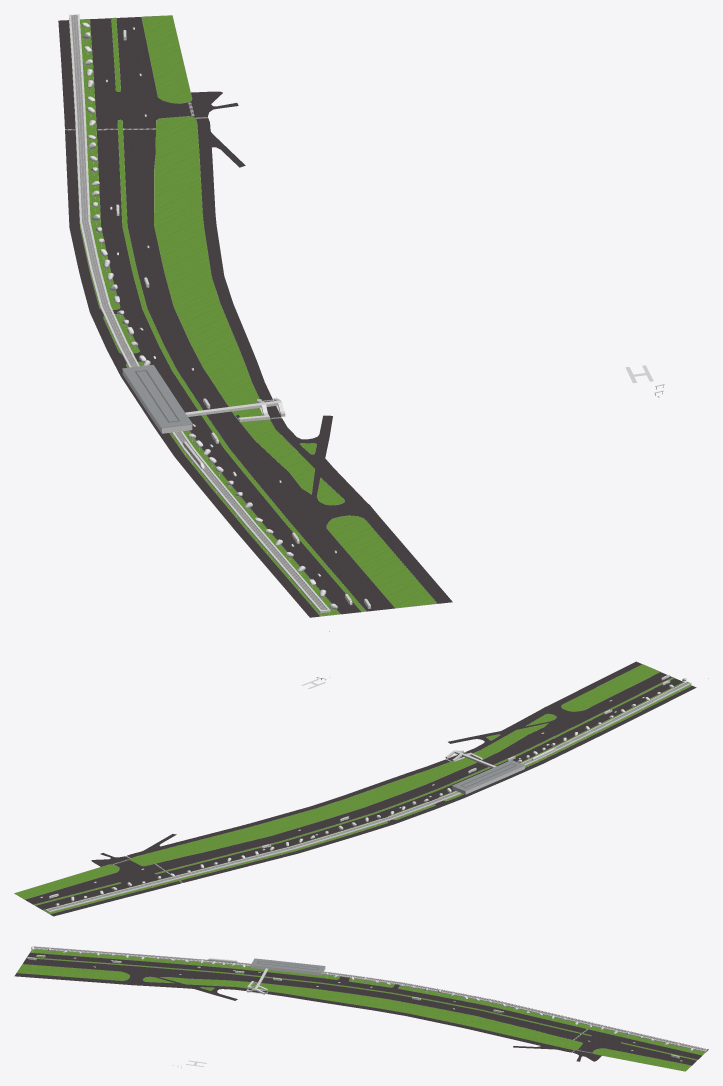
Rendered from giaothonglienvungg.glb.
3 views of the same model, one above another, from view 1: azimuth 30°, elevation 25°; view 2: azimuth 150°, elevation 25°; view 3: azimuth 270°, elevation 25° (orthographic). The views are drawn at different scales.
Parts seen in each view (by area): view 1: _(Loose Entity), _G-Object (Loose Mesh), G-Object.003, G-Object.001; view 2: _(Loose Entity), _G-Object (Loose Mesh), G-Object.003, G-Object.001; view 3: _(Loose Entity), _G-Object (Loose Mesh), G-Object.003, G-Object.001.
Part boxes in pixels (x1,y1,x2,y2): _(Loose Entity): (58,15,659,617); _G-Object (Loose Mesh): (69,14,330,612); G-Object.003: (122,364,192,428); G-Object.001: (122,370,281,433); _(Loose Entity): (14,661,696,916); _G-Object (Loose Mesh): (45,681,691,912); G-Object.003: (452,760,525,791); G-Object.001: (452,750,524,794); _(Loose Entity): (14,949,708,1071); _G-Object (Loose Mesh): (33,946,707,1051); G-Object.003: (251,958,325,972); G-Object.001: (251,965,325,990).
Size of the model in its own units: 561 by 14.75 by 1312.
18 materials, 9 textured.
